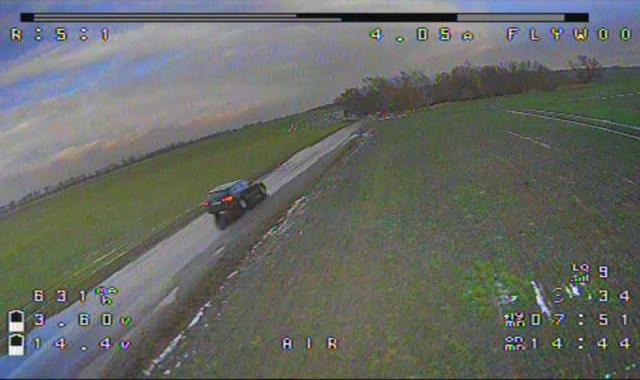car: (197, 168, 286, 223)
